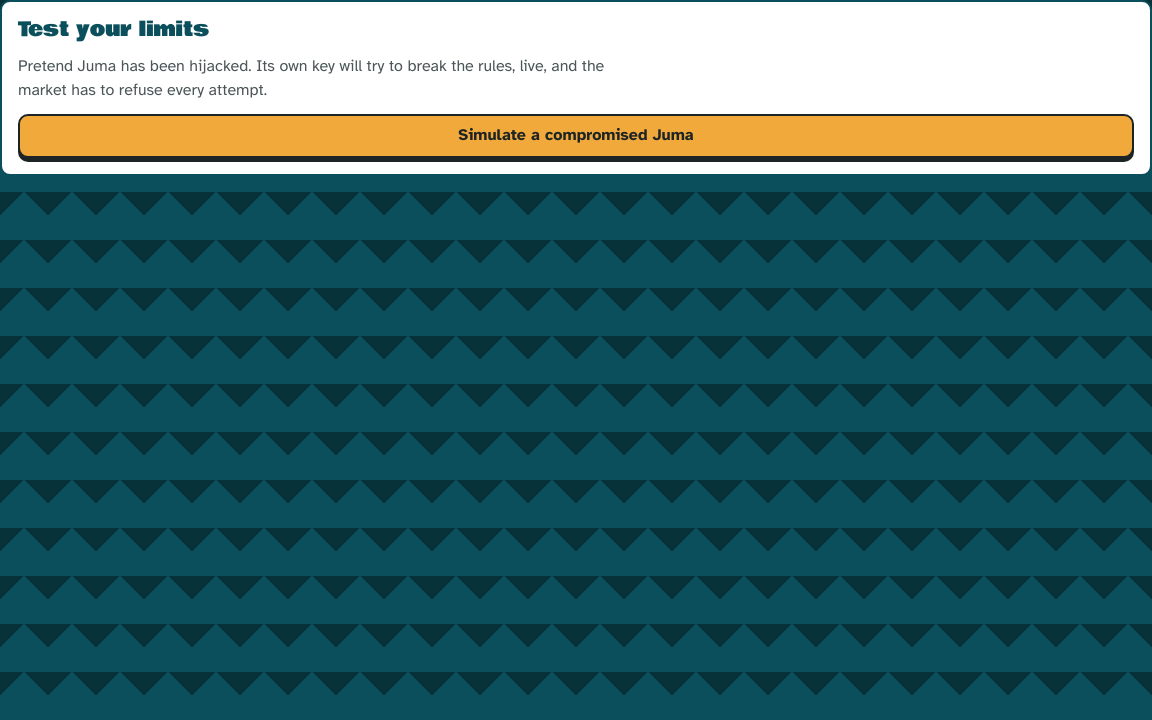
Scenario: CompromiseTest › runs the test and shows who stopped each attempt
Click the button "Simulate a compromised Juma": (576, 136) [18,114,1134,158]
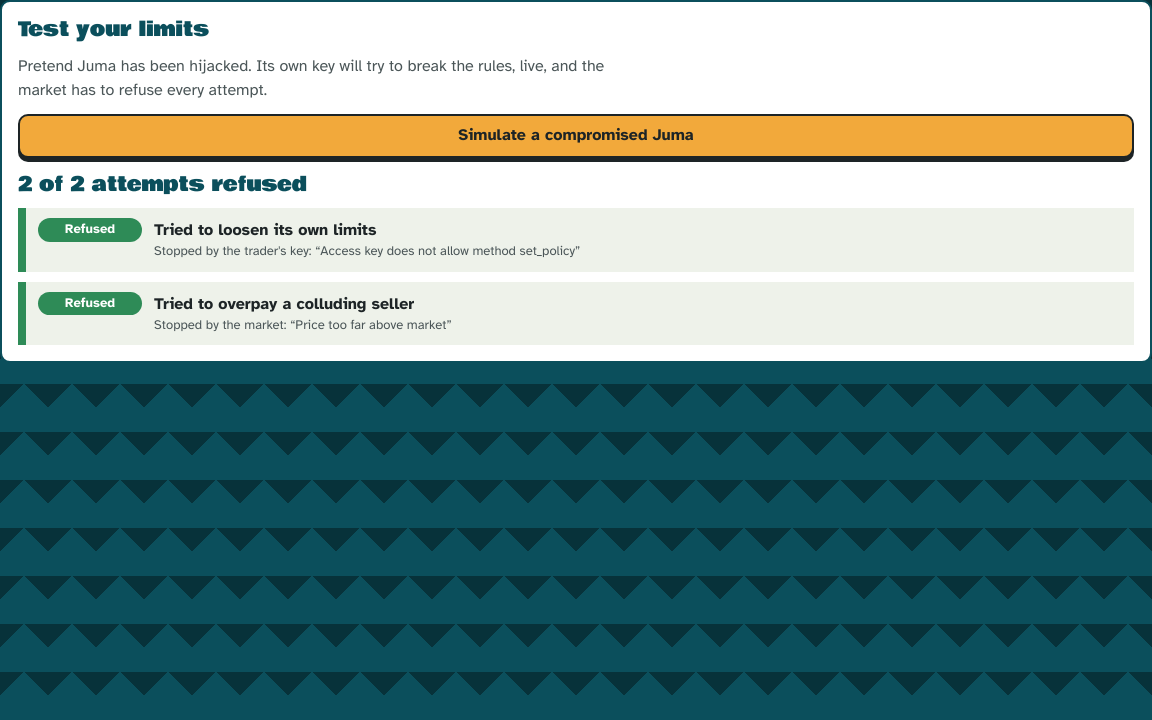
Expected: the text "2 of 2 attempts refused" is shown, [18,169,307,200]
Expected: the text "Tried to loosen its own limits" is shown, [154,220,376,240]
Expected: the text "Stopped by the trader's key" is shown, [154,243,309,259]
